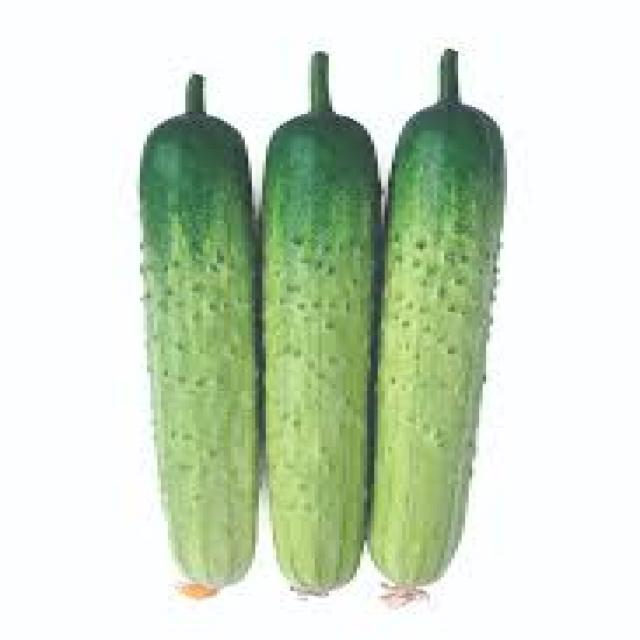Cucumber: (240, 46, 380, 610), (364, 43, 504, 606), (119, 68, 259, 630)
